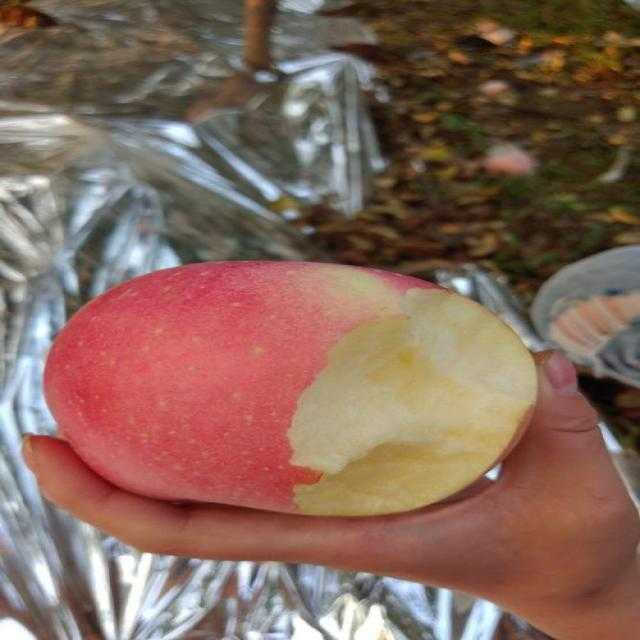Rotten: (55, 268, 538, 517)
